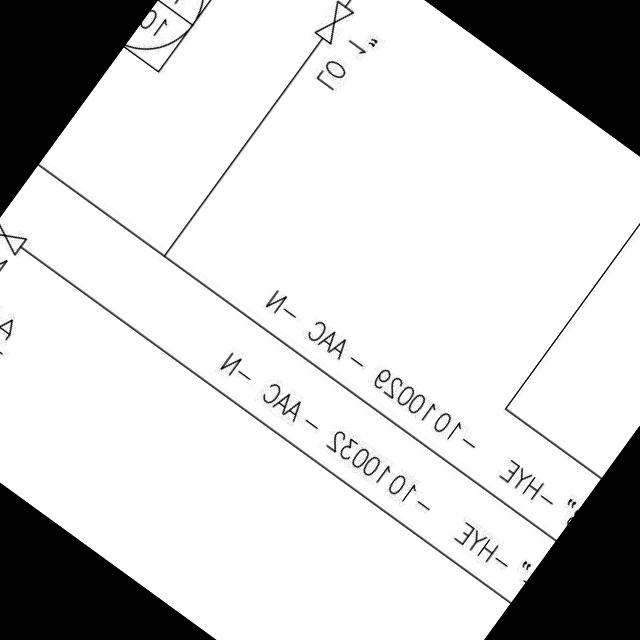GV: (306, 0, 361, 52)
